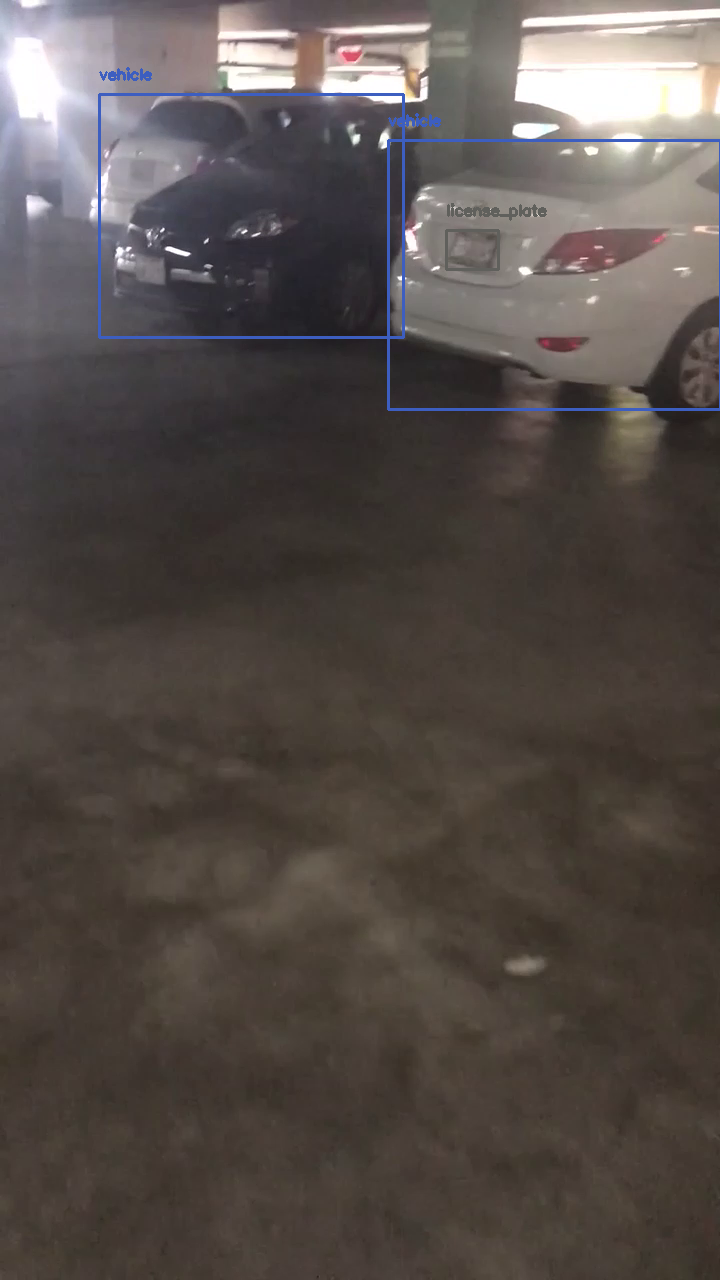license_plate: (446, 230, 498, 269)
vehicle: (388, 140, 720, 409), (99, 94, 403, 337)
